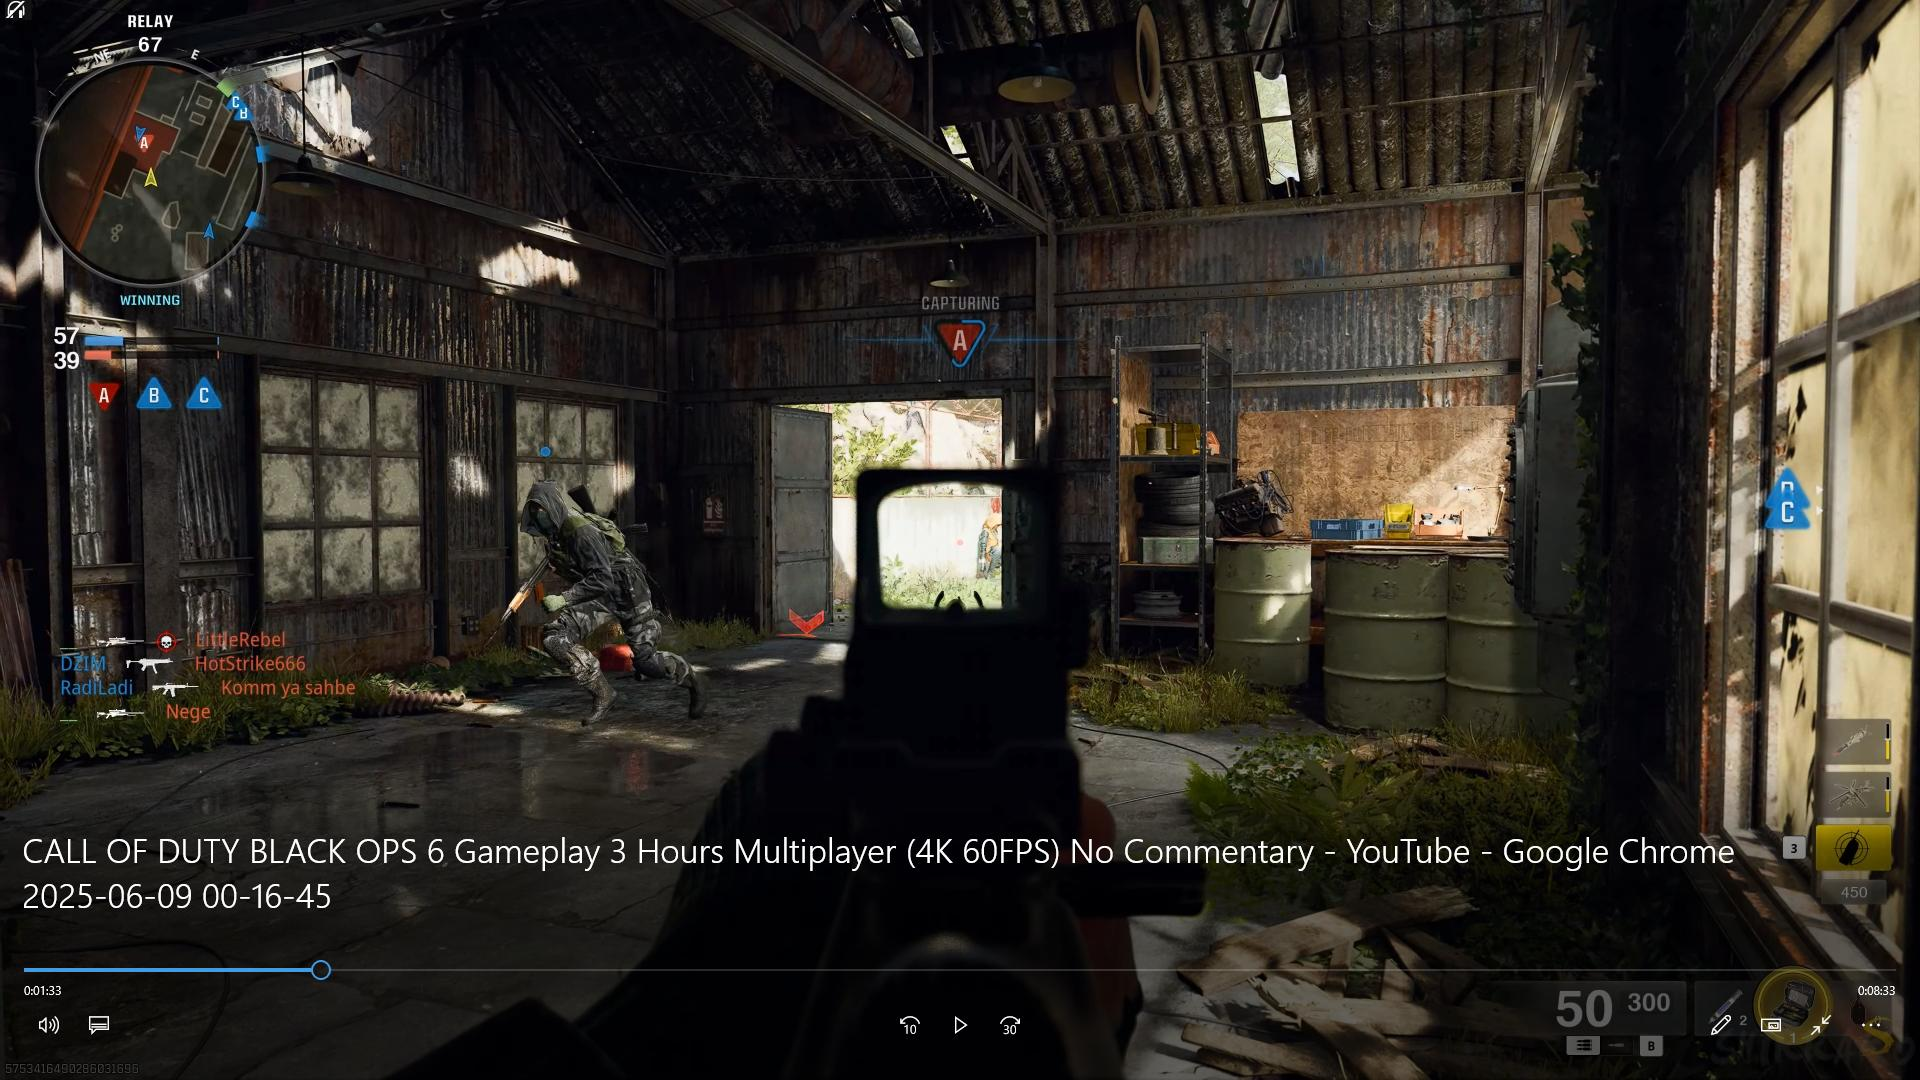Enemy: (502, 481, 707, 720)
